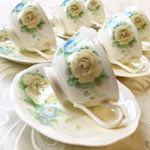cups: (40, 25, 129, 130), (1, 1, 61, 61), (94, 9, 147, 74)
